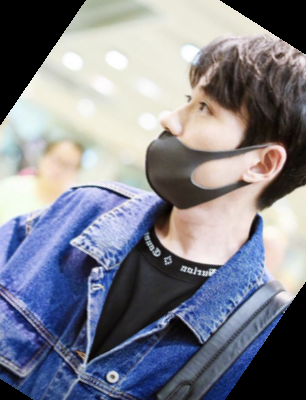mask_weared_incorrect: (129, 14, 306, 230)
